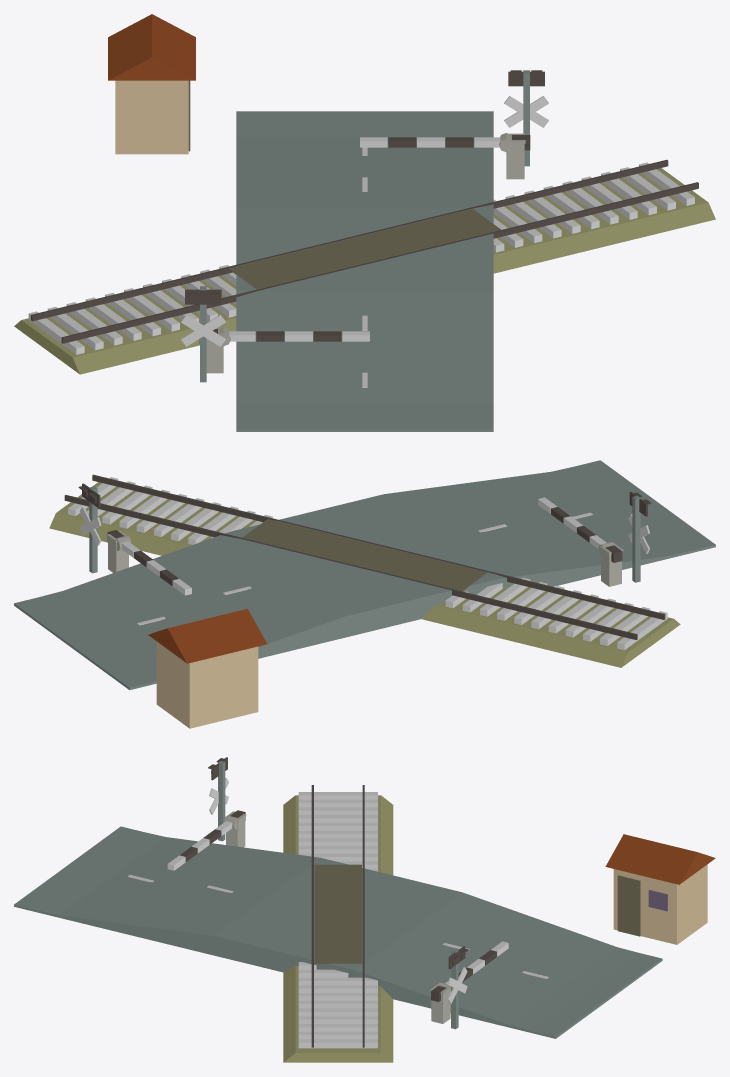
File: SM_PasoNivel_60E_v0_Teja_LOD0.fbx
3 views of the same model, one above another, from view 1: azimuth 30°, elevation 25°; view 2: azimuth 150°, elevation 25°; view 3: azimuth 270°, elevation 25° (orthographic). The views are drawn at different scales.
Visible parts, largest first — view 1: SM_paso_nivel_kit_v25_LOD0, Barrera_1, Barrera_2; view 2: SM_paso_nivel_kit_v25_LOD0, Barrera_1, Barrera_2; view 3: SM_paso_nivel_kit_v25_LOD0, Barrera_2, Barrera_1.
Boxes of the visible parts, left/top/right/bottom form: SM_paso_nivel_kit_v25_LOD0: left=14, top=14, right=715, bottom=431; Barrera_1: left=360, top=133, right=530, bottom=151; Barrera_2: left=199, top=327, right=369, bottom=345; SM_paso_nivel_kit_v25_LOD0: left=14, top=460, right=715, bottom=728; Barrera_1: left=107, top=530, right=191, bottom=595; Barrera_2: left=538, top=497, right=622, bottom=562; SM_paso_nivel_kit_v25_LOD0: left=14, top=757, right=715, bottom=1062; Barrera_2: left=167, top=810, right=245, bottom=870; Barrera_1: left=431, top=941, right=508, bottom=1001.
Size of the model in its own units: 20 by 3 by 23.01.
